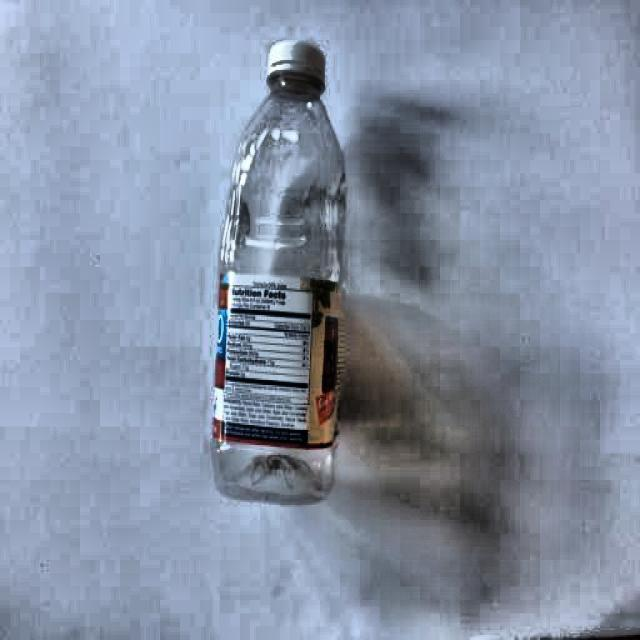plastic: (212, 41, 343, 508)
